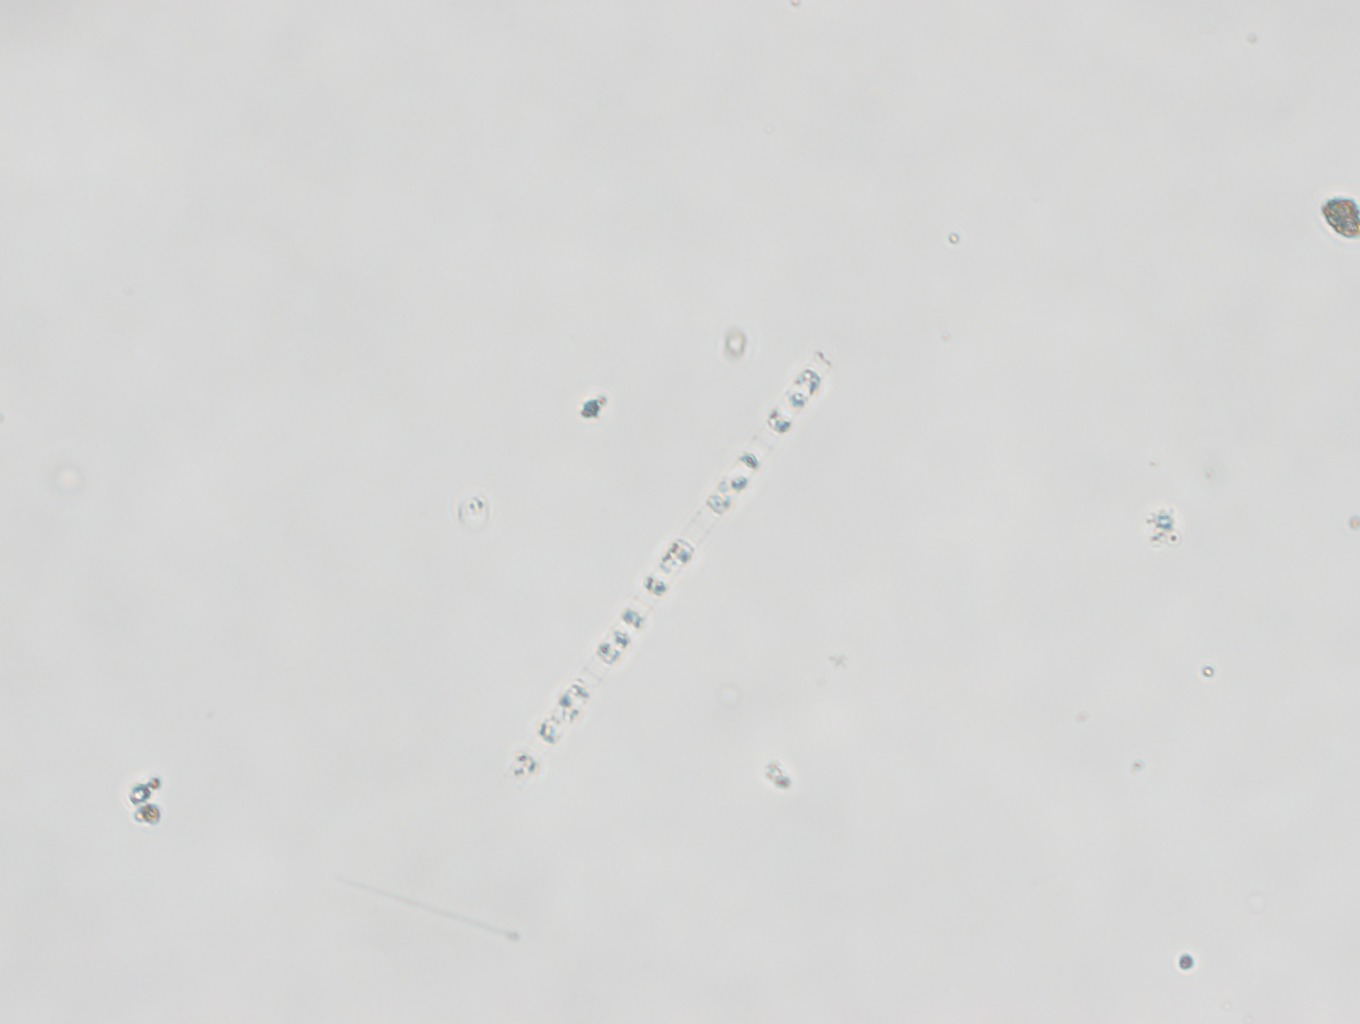skeletonema: (510, 344, 838, 793)
